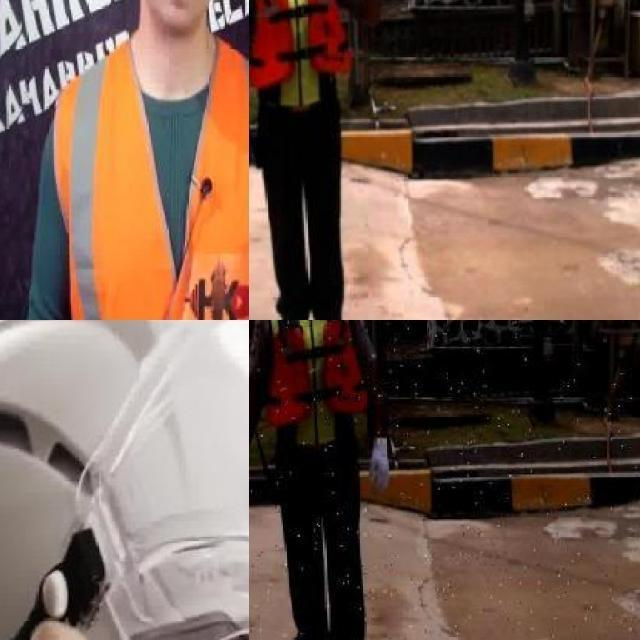apron: (364, 430, 396, 498)
